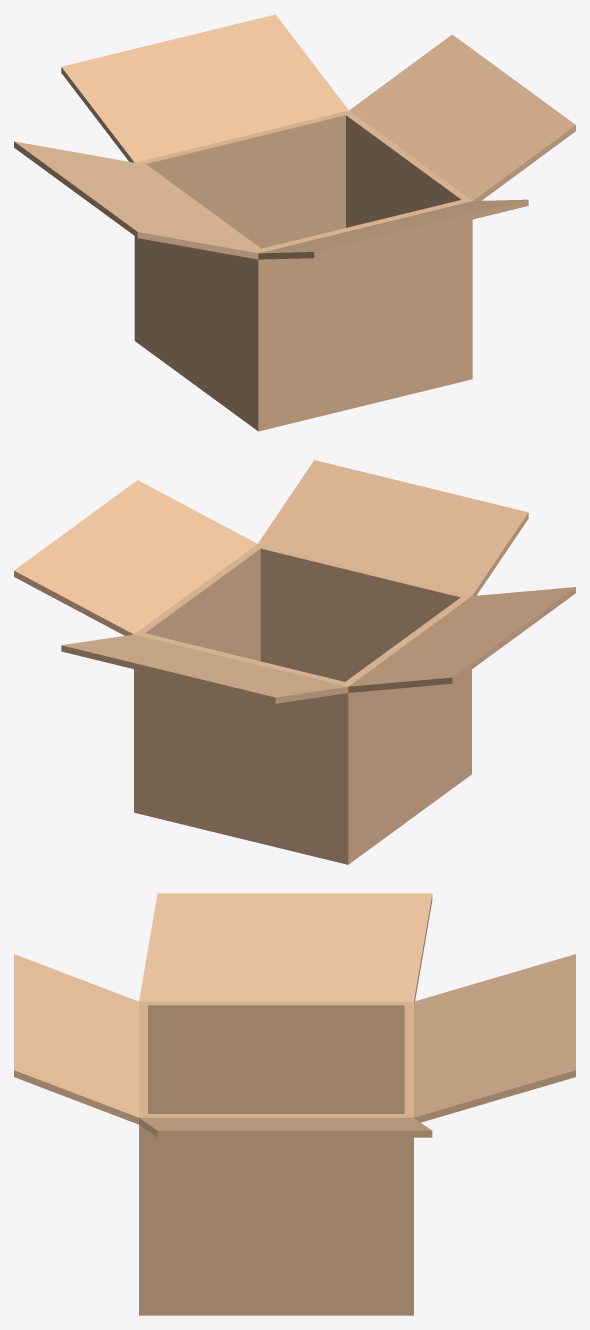
File: empty-box-by-poly-by-google-86_1dd-Z27K.glb
3 renders of one model, top to bottom at view 1: azimuth 30°, elevation 25°; view 2: azimuth 150°, elevation 25°; view 3: azimuth 270°, elevation 25°, orthographic. The views are drawn at different scales.
Visible parts, largest first — view 1: Box001; view 2: Box001; view 3: Box001.
Part boxes in pixels (x1,y1,x2,y2): Box001: [14, 14, 575, 431]; Box001: [14, 460, 575, 864]; Box001: [14, 893, 575, 1315].
Bounding box in the file's own units: 419578 × 202094 × 419578.
